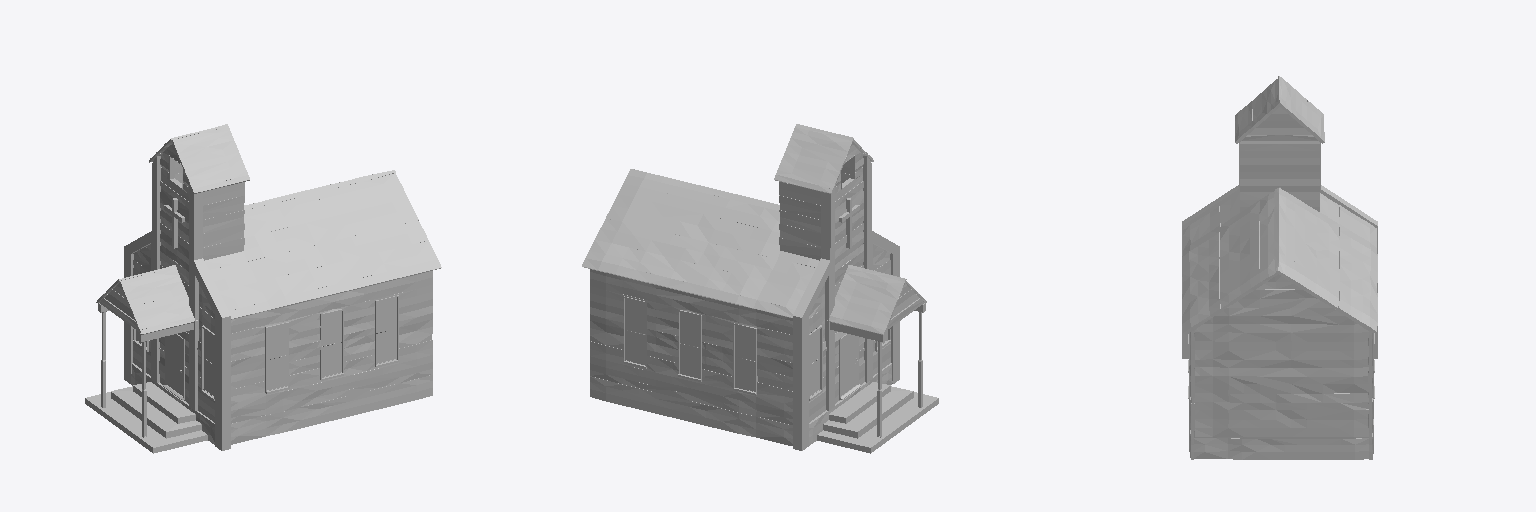
File: Church_LOD1.obj
3 renders of one model, left to right at view 1: azimuth 30°, elevation 25°; view 2: azimuth 150°, elevation 25°; view 3: azimuth 270°, elevation 25°, orthographic.
Parts seen in each view (by area): view 1: WildWest_Church_Roofs, WildWest_Church_Walls, WildWest_Church_Front, WildWest_Church_Steps, WildWest_Church_Window, WildWest_Church_Door; view 2: WildWest_Church_Roofs, WildWest_Church_Walls, WildWest_Church_Front, WildWest_Church_Steps, WildWest_Church_Window, WildWest_Church_Door; view 3: WildWest_Church_Walls, WildWest_Church_Roofs, WildWest_Church_Front, WildWest_Church_Steps.
Part boxes in pixels (x1,y1,x2,y2): WildWest_Church_Roofs: (96, 124, 441, 334); WildWest_Church_Walls: (231, 271, 432, 423); WildWest_Church_Front: (124, 144, 244, 450); WildWest_Church_Steps: (85, 283, 432, 453); WildWest_Church_Window: (136, 297, 396, 395); WildWest_Church_Door: (166, 334, 182, 395); WildWest_Church_Roofs: (582, 124, 926, 334); WildWest_Church_Walls: (590, 269, 792, 424); WildWest_Church_Front: (779, 145, 899, 450); WildWest_Church_Steps: (590, 283, 938, 453); WildWest_Church_Window: (626, 299, 887, 395); WildWest_Church_Door: (841, 334, 857, 395); WildWest_Church_Walls: (1188, 274, 1374, 438); WildWest_Church_Roofs: (1182, 76, 1377, 334); WildWest_Church_Front: (1182, 107, 1377, 358); WildWest_Church_Steps: (1189, 399, 1373, 459).
Size of the model in its own units: 11.93 by 11.49 by 7.32.